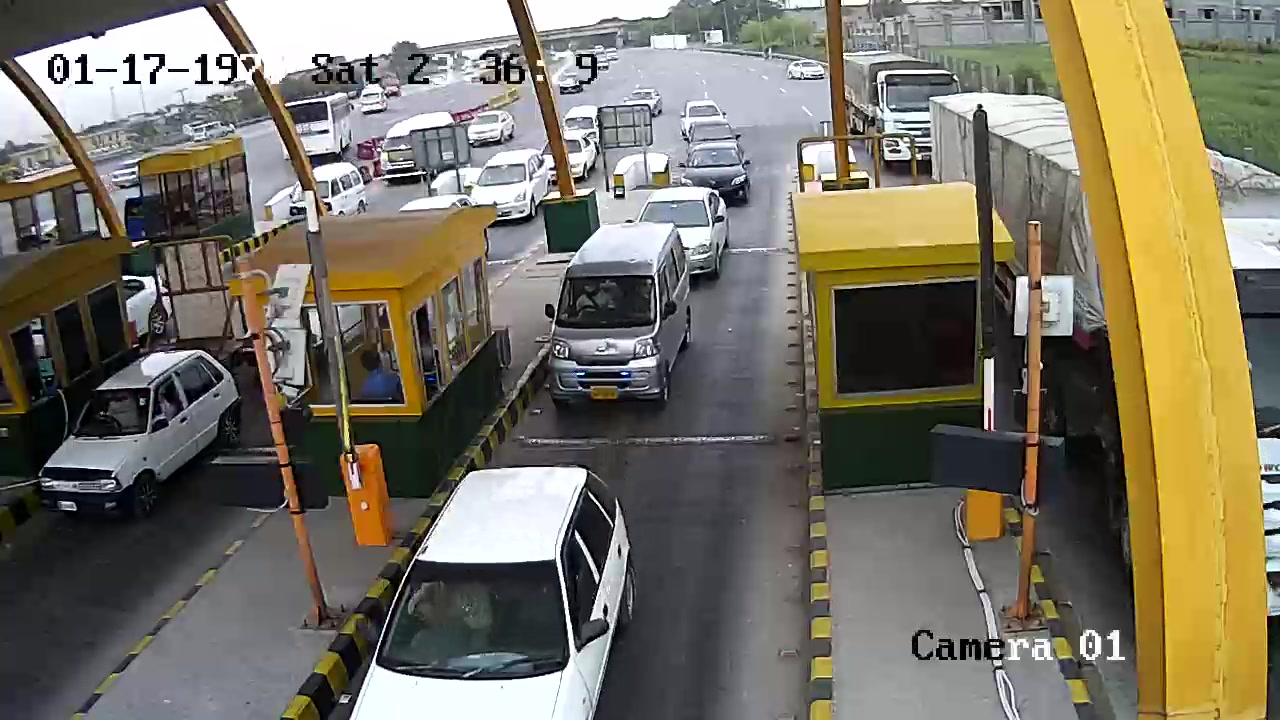F1: (548, 218, 684, 417)
